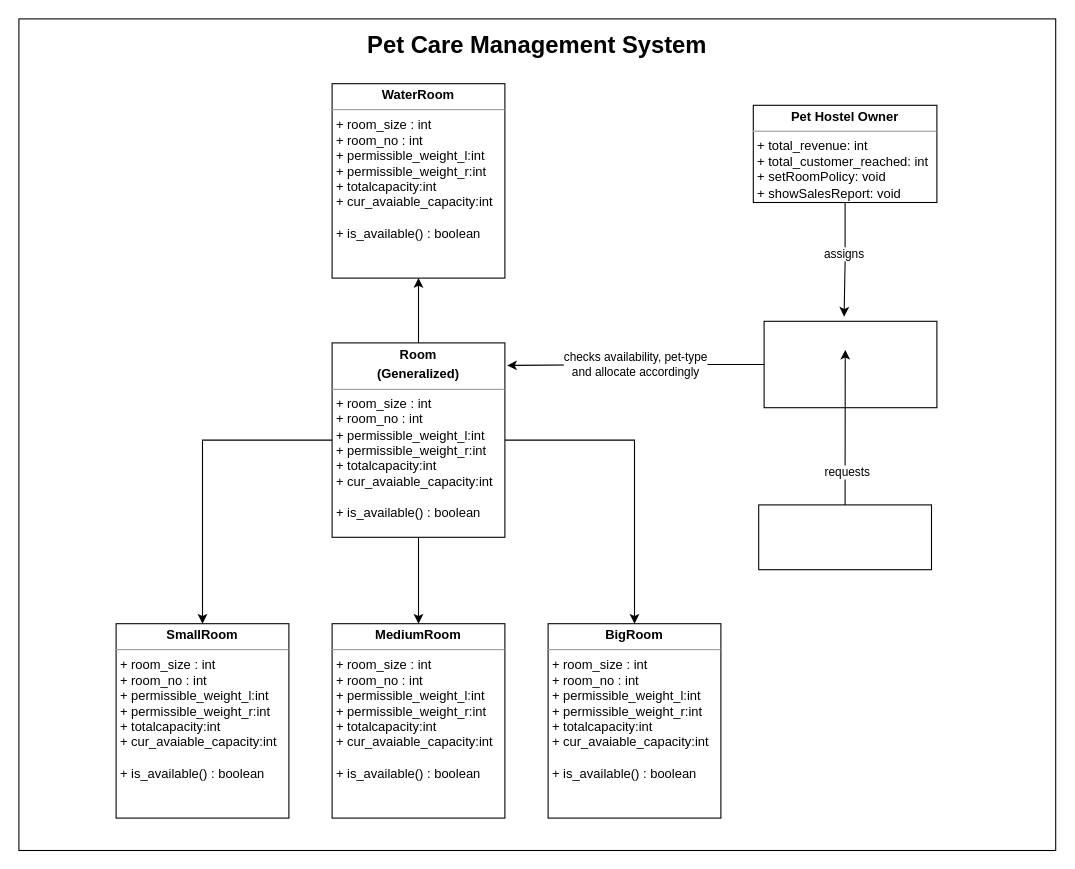
Some shapes in this 1075 by 869 pixel diagram are drawn without their labels. Here are the shapes that lost their labels. From the top down, the centre of each, then its label:
At (850,364): "RoomAllocator + checkAvailibility() : boolean + bookRoom() : void".
At (845,537): "Client + order_hostel() : void".
